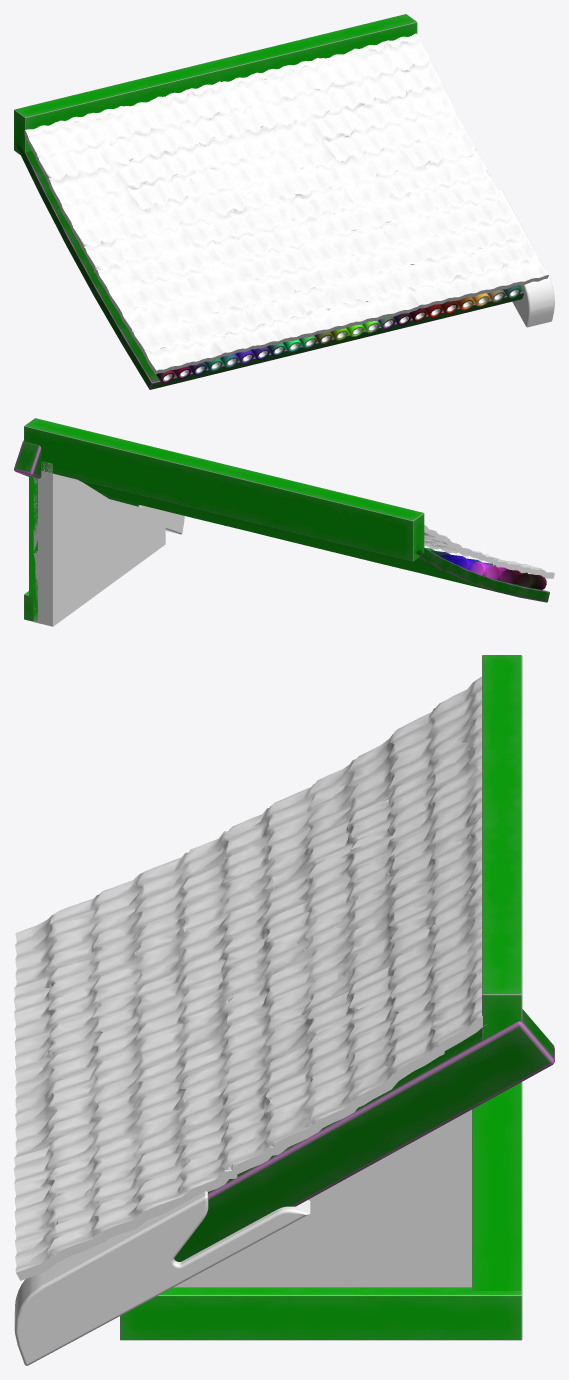
Rendered from roof_side_400x200_01_right.fbx.
The picture shows the model from 3 angles, top to bottom: view 1: azimuth 30°, elevation 25°; view 2: azimuth 150°, elevation 25°; view 3: azimuth 270°, elevation 25°; orthographic projection. The views are drawn at different scales.
Visible parts, largest first — view 1: roof_side_400x200_01_right; view 2: roof_side_400x200_01_right; view 3: roof_side_400x200_01_right.
Boxes of the visible parts, x1,y1,x2,y2 form: roof_side_400x200_01_right: (14, 14, 554, 389); roof_side_400x200_01_right: (14, 418, 554, 626); roof_side_400x200_01_right: (14, 655, 554, 1365).
Bounding box in the file's own units: 4.07 × 2.01 × 2.69.
